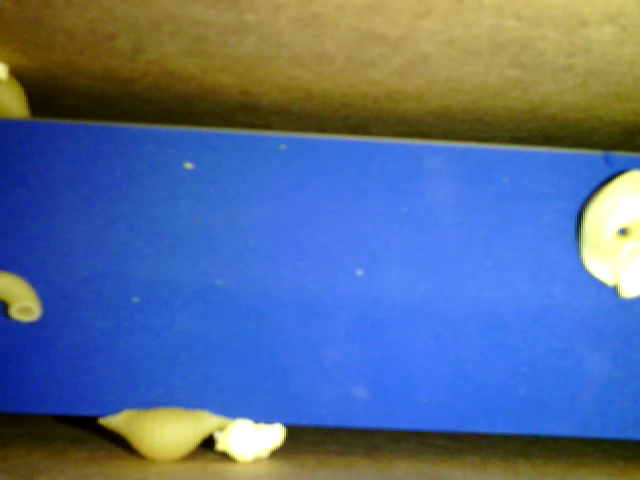elbow: (2, 270, 43, 326)
shell: (94, 405, 232, 461)
tortellini: (576, 166, 637, 297)
